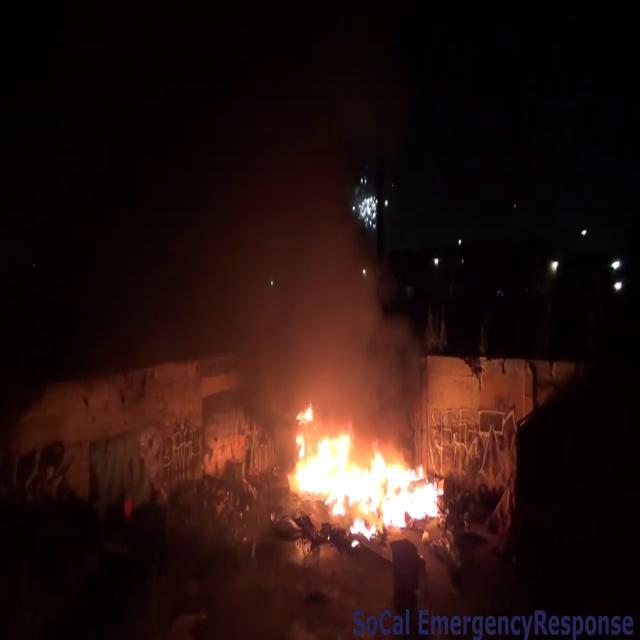Fire: (278, 410, 448, 530)
Smoke: (154, 12, 440, 434)
